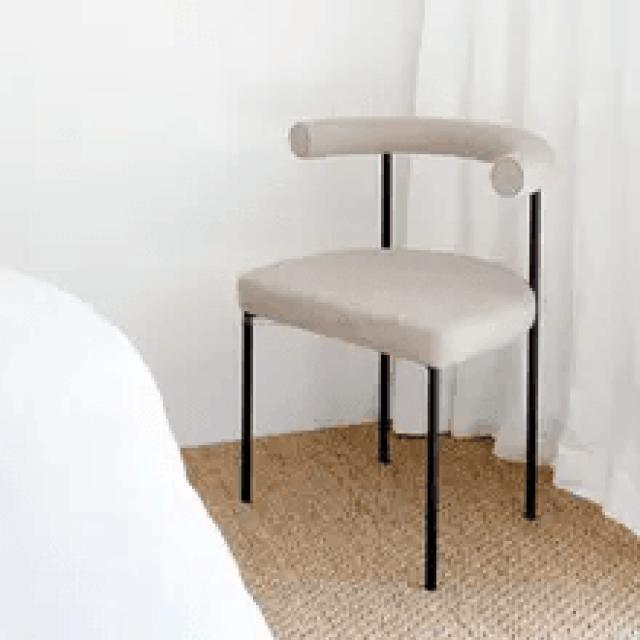chair: (236, 113, 555, 591)
